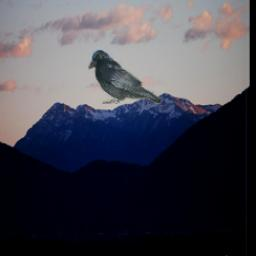Crow: (88, 49, 162, 105)
